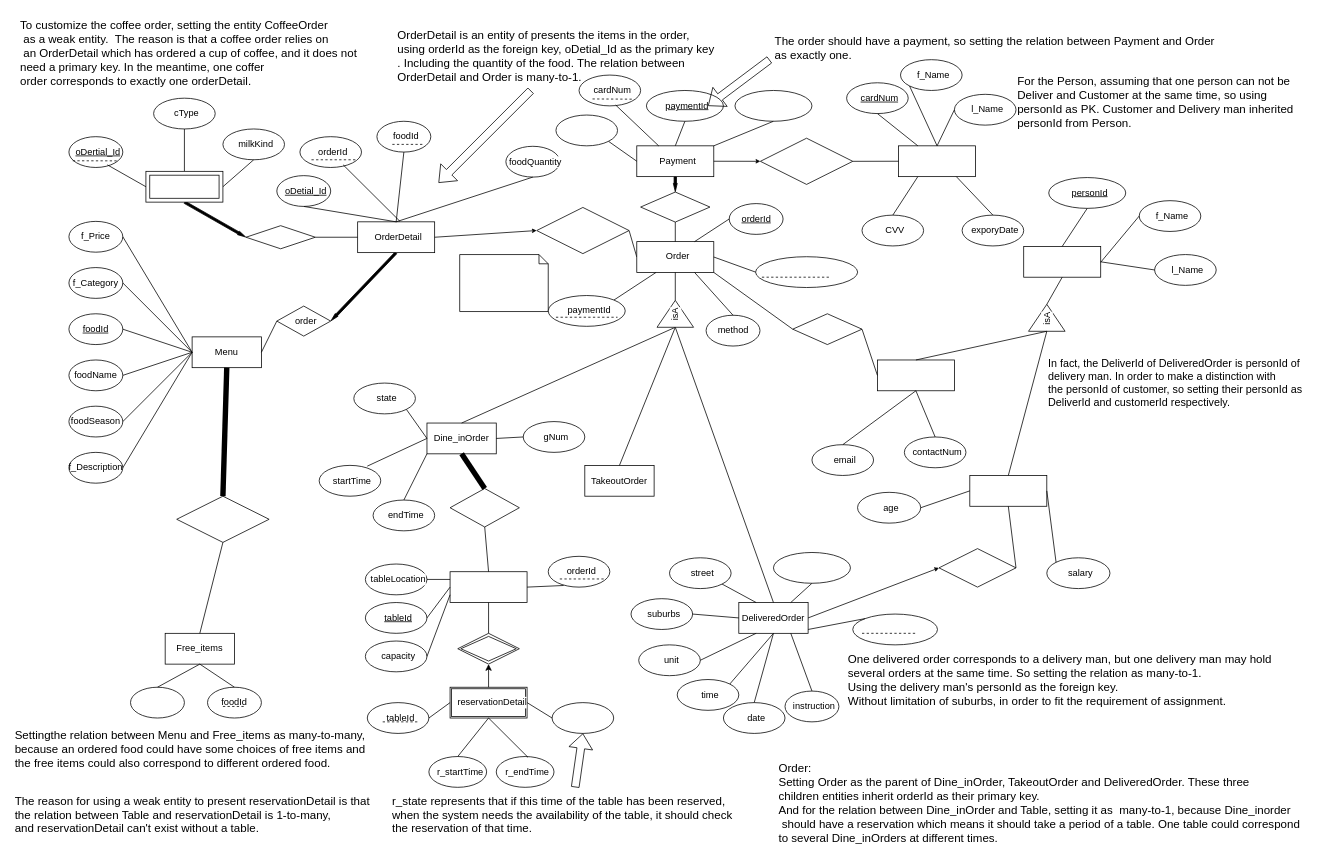
Some shapes in this 1337 by 862 pixel diagram are drawn without their labels. The shapes that lost their labels are listed below. From the top down, each one's centre as x and y in pixels, then its label:
At (x=773, y=105): "price".
At (x=586, y=130): "payMethod".
At (x=806, y=160): "pay by card".
At (x=937, y=161): "Credit_CardDetail".
At (x=184, y=186): "CoffeeOrder".
At (x=675, y=206): "choose".
At (x=280, y=237): "has".
At (x=582, y=230): "consist".
At (x=806, y=272): "customerId(personId)".
At (x=1062, y=261): "Person".
At (x=503, y=283): "The justify of the Order is at the right bottom.".
At (x=827, y=329): "make".
At (x=915, y=375): "Customer".
At (x=484, y=507): "allocate".
At (x=1008, y=490): "Deliver".
At (x=222, y=518): "Come_free".
At (x=488, y=587): "Table".
At (x=811, y=567): "delivery_Fee".
At (x=977, y=567): "delivery".
At (x=488, y=648): "booked".
At (x=894, y=629): "DeliverId(personId)".
At (x=157, y=702): "free_Fid".
At (x=582, y=717): "r_state".
